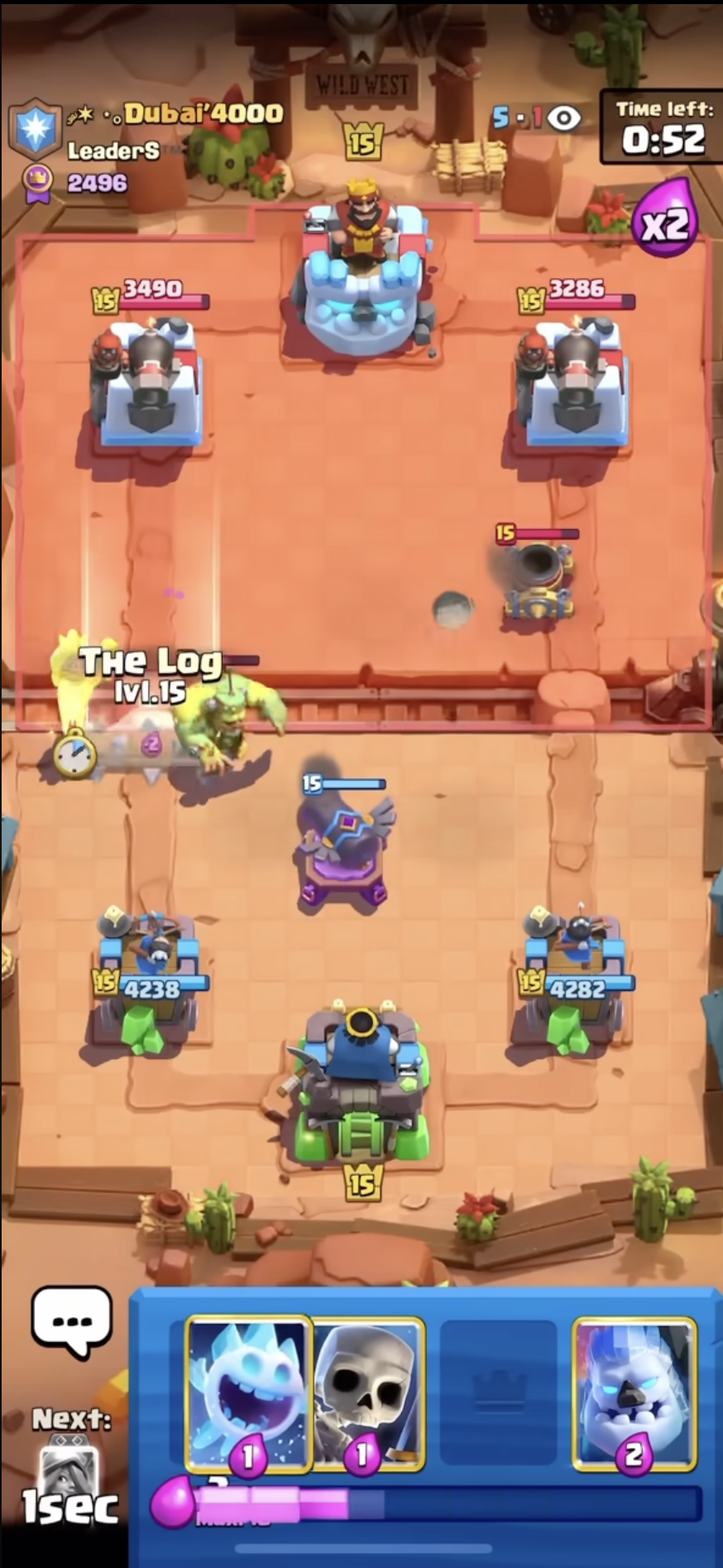evo_cannon: (279, 764, 399, 919)
